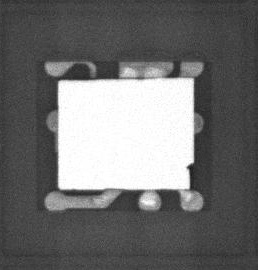DIE_BROKEN: (186, 161, 194, 190)
